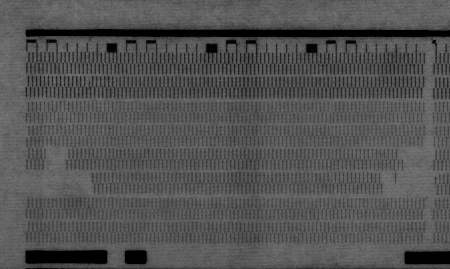Broken hole: (25, 168, 97, 199), (379, 170, 430, 197), (394, 147, 429, 172), (42, 146, 70, 169)
Oblique printing: (84, 75, 94, 90)
